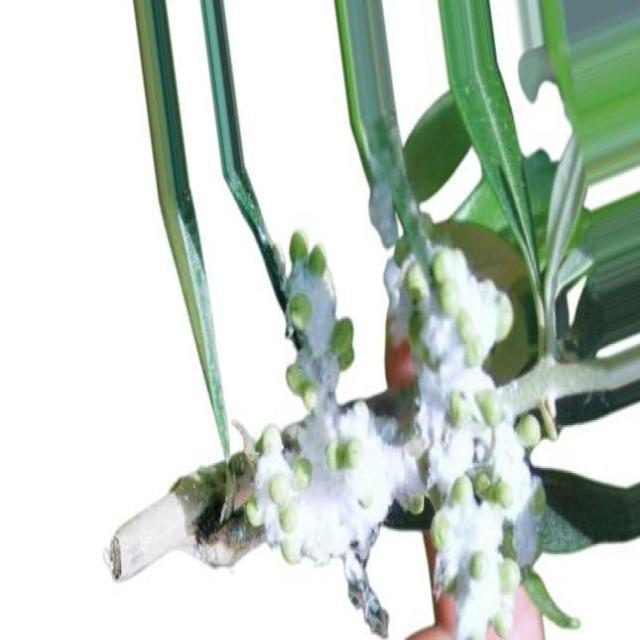Psyllid: (254, 389, 426, 635), (406, 368, 546, 638), (381, 215, 513, 372), (284, 228, 353, 408)
